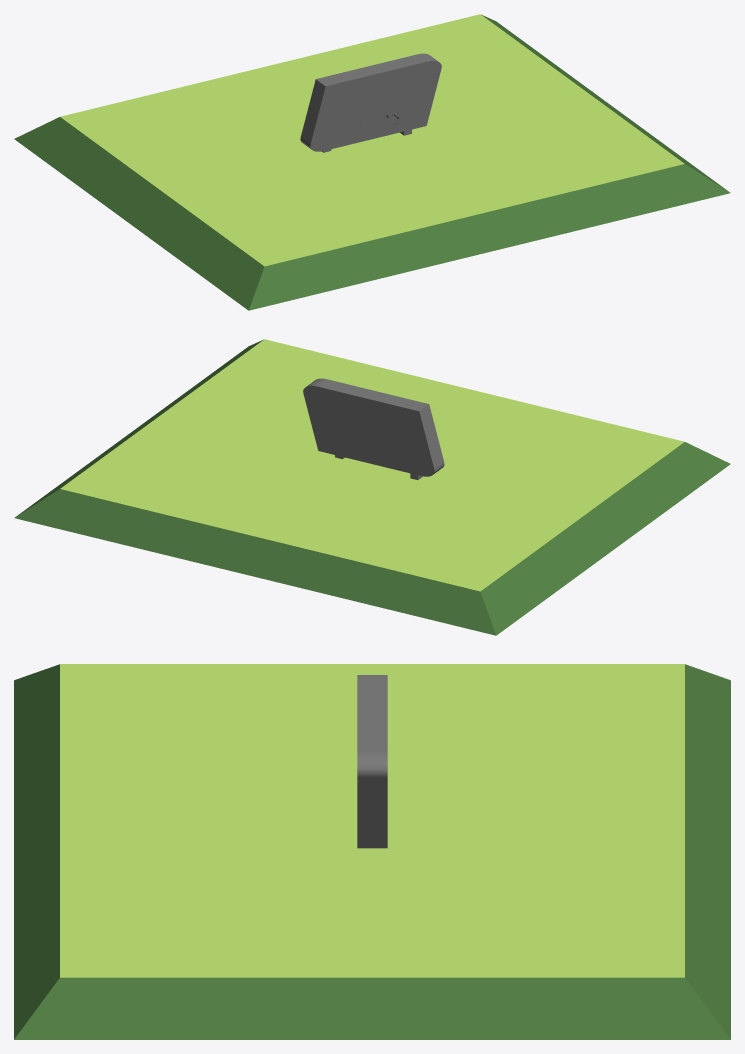
Rendered from Entrada.fbx.
3 renders of one model, top to bottom at view 1: azimuth 30°, elevation 25°; view 2: azimuth 150°, elevation 25°; view 3: azimuth 270°, elevation 25°, orthographic. The views are drawn at different scales.
Visible parts, largest first — view 1: Cube.014, Cube.013; view 2: Cube.014, Cube.013; view 3: Cube.014, Cube.013.
Part boxes in pixels (x1,y1,x2,y2): Cube.014: (14, 14, 730, 310); Cube.013: (300, 53, 441, 151); Cube.014: (14, 339, 730, 635); Cube.013: (303, 378, 444, 476); Cube.014: (14, 664, 730, 1039); Cube.013: (357, 675, 387, 848).
Size of the model in its own units: 50.89 by 9.67 by 42.89.
